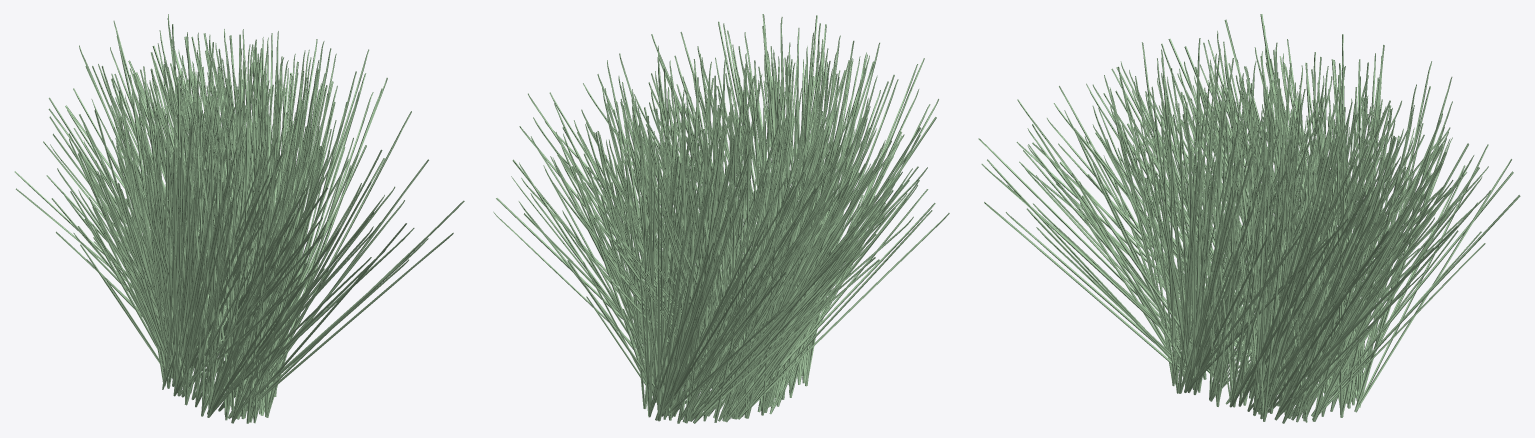
Rendered from brush.fbx.
3 views of the same model, side by side, from view 1: azimuth 30°, elevation 25°; view 2: azimuth 150°, elevation 25°; view 3: azimuth 270°, elevation 25° (orthographic).
Visible parts, largest first — view 1: riceSummer31Main; view 2: riceSummer31Main; view 3: riceSummer31Main.
Boxes of the visible parts, x1,y1,x2,y2 form: riceSummer31Main: (14,14,464,423); riceSummer31Main: (493,14,949,423); riceSummer31Main: (978,14,1520,423).
Size of the model in its own units: 4.85 by 4.36 by 6.47.
